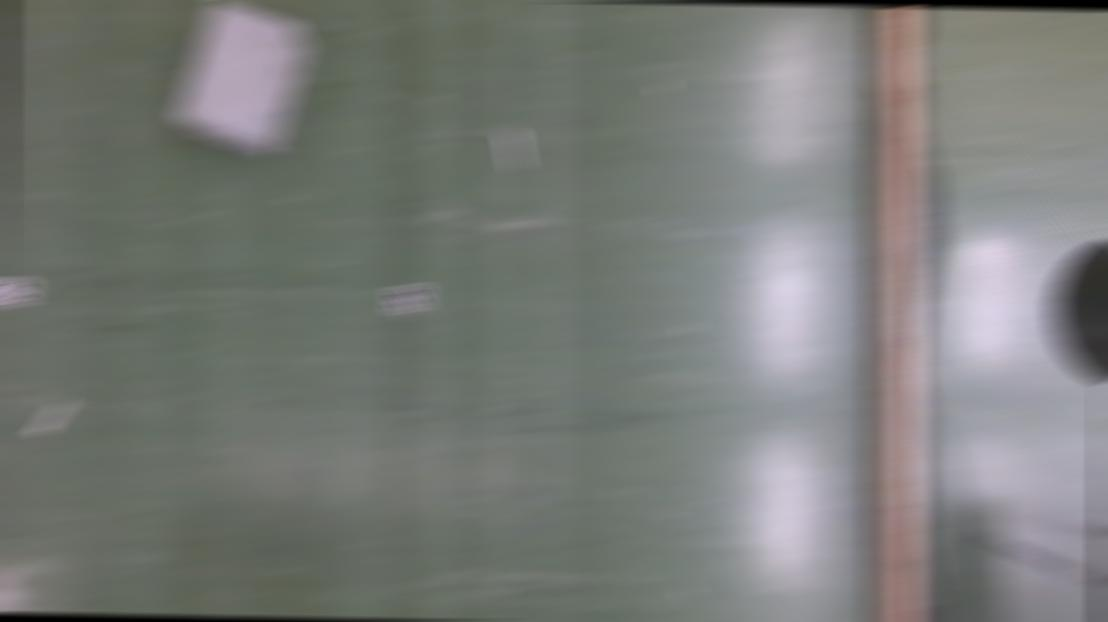probes: (33, 400, 72, 438), (502, 131, 526, 172)
rako: (173, 1, 313, 159)
